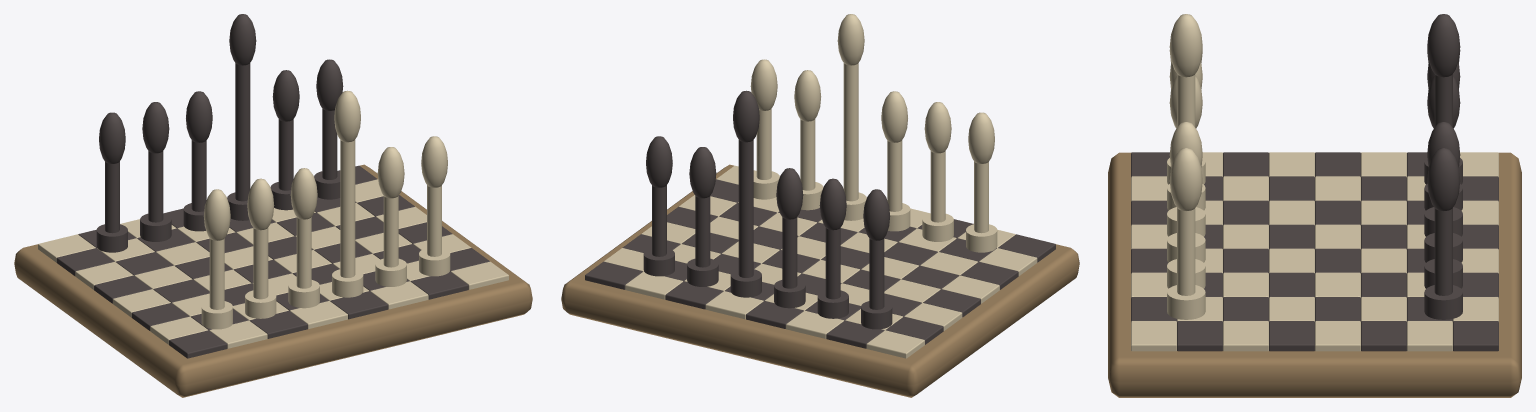
File: chess.glb
3 views of the same model, side by side, from view 1: azimuth 30°, elevation 25°; view 2: azimuth 150°, elevation 25°; view 3: azimuth 270°, elevation 25° (orthographic). The views are drawn at different scales.
Parts seen in each view (by area): view 1: board-backing, piece-1-3-stem, piece--1-3-stem, piece--1-4-crown, piece-1-5-crown, piece--1-2-crown, piece--1-3-crown, piece-1-2-crown, piece--1-1-crown, piece-1-0-crown, piece-1-3-crown, piece-1-4-crown (+64 smaller); view 2: board-backing, piece--1-3-stem, piece-1-3-stem, piece--1-5-crown, piece-1-4-crown, piece--1-2-crown, piece-1-2-crown, piece-1-3-crown, piece--1-0-crown, piece--1-3-crown, piece-1-1-crown, piece--1-4-crown (+64 smaller); view 3: board-backing, piece--1-3-crown, piece-1-3-crown, piece--1-5-crown, piece-1-5-crown, piece--1-5-stem, piece-1-5-stem, square-7-2, square-7-3, square-7-4, square-7-5, square-7-0 (+73 smaller).
Boxes of the visible parts, left/top/right/bottom form: board-backing: left=14, top=164, right=532, bottom=397; piece-1-3-stem: left=340, top=139, right=355, bottom=277; piece--1-3-stem: left=235, top=63, right=250, bottom=201; piece--1-4-crown: left=272, top=70, right=299, bottom=121; piece-1-5-crown: left=421, top=136, right=447, bottom=187; piece--1-2-crown: left=186, top=91, right=212, bottom=142; piece--1-3-crown: left=229, top=14, right=256, bottom=65; piece-1-2-crown: left=290, top=168, right=317, bottom=219; piece--1-1-crown: left=142, top=102, right=169, bottom=153; piece-1-0-crown: left=203, top=189, right=230, bottom=240; piece-1-3-crown: left=334, top=90, right=360, bottom=142; piece-1-4-crown: left=377, top=147, right=404, bottom=198; board-backing: left=561, top=164, right=1079, bottom=397; piece--1-3-stem: left=738, top=139, right=753, bottom=277; piece-1-3-stem: left=843, top=63, right=858, bottom=201; piece--1-5-crown: left=646, top=136, right=672, bottom=187; piece-1-4-crown: left=794, top=70, right=821, bottom=121; piece--1-2-crown: left=776, top=168, right=803, bottom=219; piece-1-2-crown: left=881, top=91, right=907, bottom=142; piece-1-3-crown: left=837, top=14, right=864, bottom=65; piece--1-0-crown: left=863, top=189, right=890, bottom=240; piece--1-3-crown: left=733, top=90, right=759, bottom=142; piece-1-1-crown: left=924, top=102, right=951, bottom=153; piece--1-4-crown: left=689, top=147, right=716, bottom=198; board-backing: left=1108, top=152, right=1521, bottom=397; piece--1-3-crown: left=1427, top=14, right=1460, bottom=77; piece-1-3-crown: left=1169, top=14, right=1202, bottom=77; piece--1-5-crown: left=1427, top=148, right=1460, bottom=210; piece-1-5-crown: left=1169, top=148, right=1202, bottom=210; piece--1-5-stem: left=1434, top=208, right=1452, bottom=295; piece-1-5-stem: left=1177, top=208, right=1195, bottom=295; square-7-2: left=1361, top=321, right=1406, bottom=351; square-7-3: left=1315, top=321, right=1360, bottom=351; square-7-4: left=1269, top=321, right=1314, bottom=351; square-7-5: left=1223, top=321, right=1268, bottom=351; square-7-0: left=1453, top=321, right=1498, bottom=351.
Bounding box in the file's own units: 0.55 × 0.3536 × 0.45.
